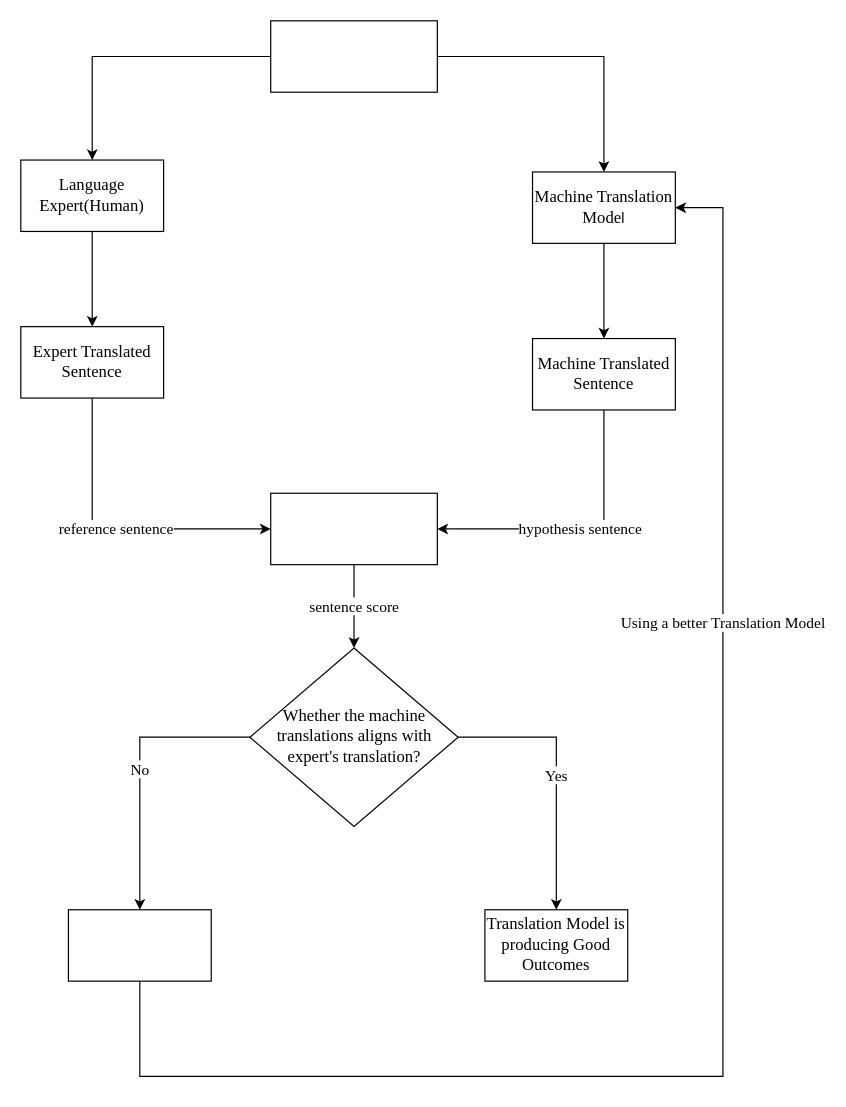
The diagram is 846 pixels wide and 1107 high, and some of its shapes have lost their labels. The shapes that lost their labels are listed below. From the top down, each one's centre as x and y in pixels, then its label:
At (x=353, y=56): "Source Sentence (ENGLISH)".
At (x=353, y=528): "MTE Metrics (BLEU, NIST, TER,METEOR)".
At (x=139, y=945): "Translation Model is producing Poor Outcomes".
